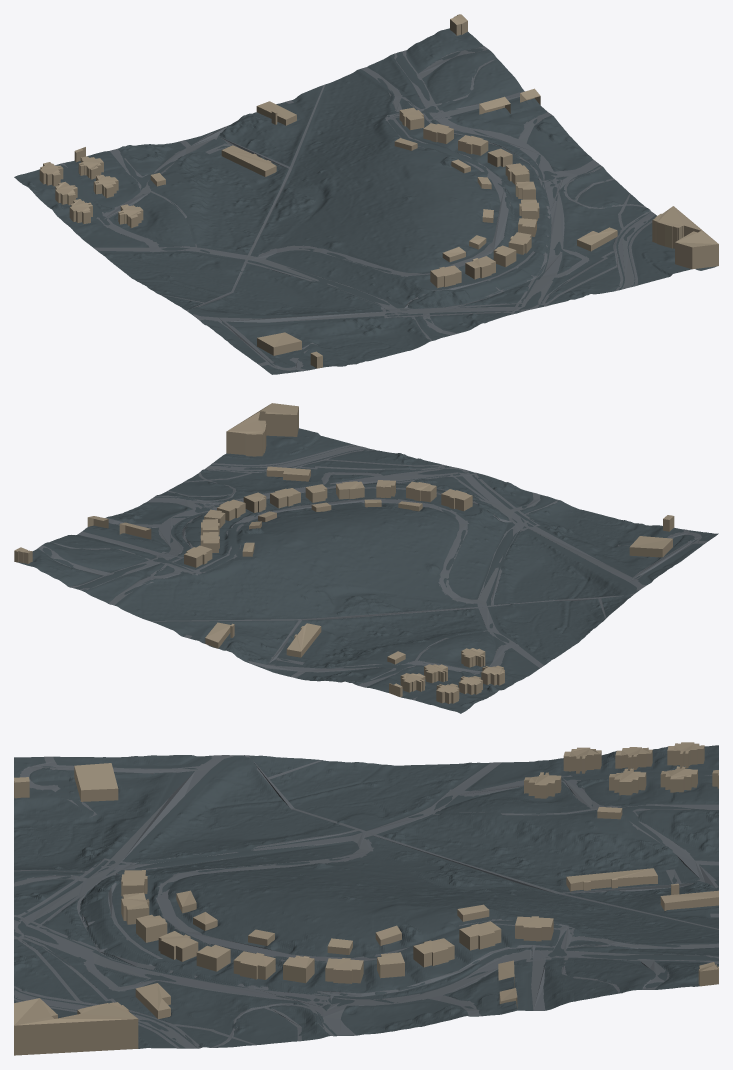
The model's file is epsg26910-1427-10894.lod0.glb.
The picture shows the model from 3 angles, top to bottom: view 1: azimuth 30°, elevation 25°; view 2: azimuth 150°, elevation 25°; view 3: azimuth 270°, elevation 25°; orthographic projection. The views are drawn at different scales.
Parts seen in each view (by area): view 1: epsg26910-1427-10894-lod0; view 2: epsg26910-1427-10894-lod0; view 3: epsg26910-1427-10894-lod0.
Boxes of the visible parts, <box> form: epsg26910-1427-10894-lod0: <box>14,14,718,374</box>; epsg26910-1427-10894-lod0: <box>14,403,718,713</box>; epsg26910-1427-10894-lod0: <box>14,742,718,1055</box>.
Bounding box in the file's own units: 384 × 60.28 × 384.
